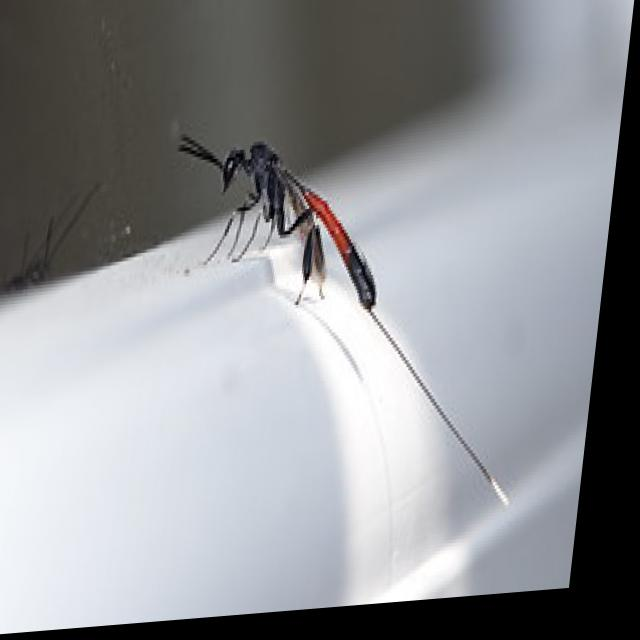Guepe: (117, 63, 618, 585)
